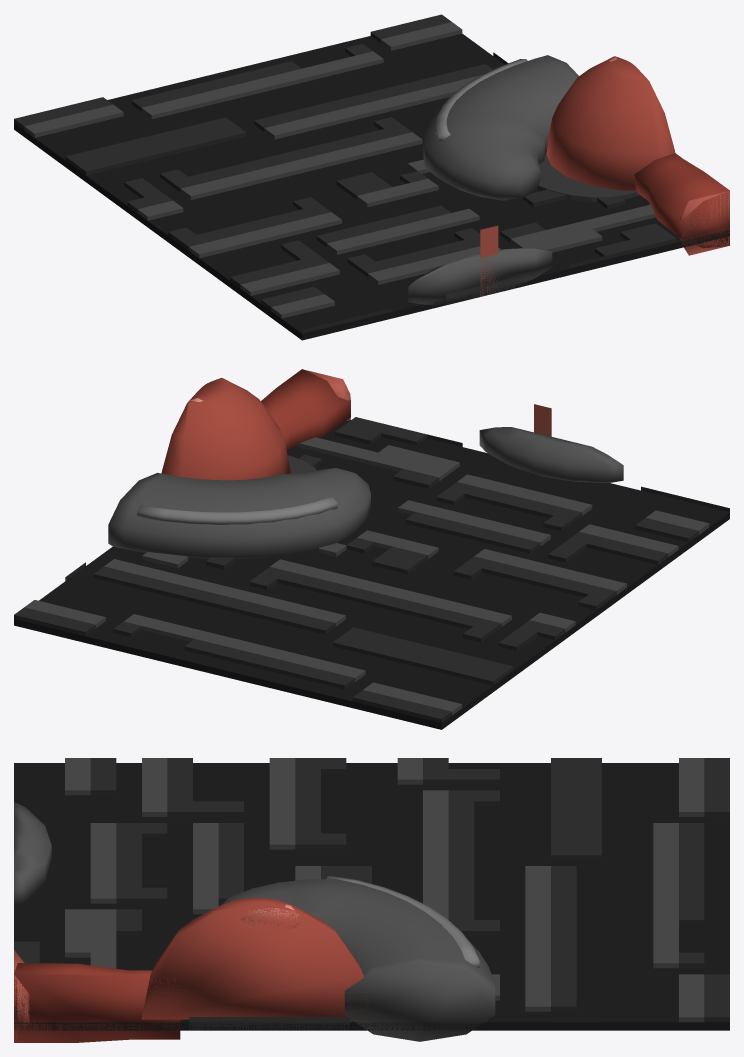
The model's file is newsh-caret-153.glb.
3 renders of one model, top to bottom at view 1: azimuth 30°, elevation 25°; view 2: azimuth 150°, elevation 25°; view 3: azimuth 270°, elevation 25°, orthographic. The views are drawn at different scales.
Visible parts, largest first — view 1: newsh-caret-153; view 2: newsh-caret-153; view 3: newsh-caret-153.
Part boxes in pixels (x1=…): newsh-caret-153: x1=14, y1=14, x2=729, y2=340; newsh-caret-153: x1=14, y1=369, x2=729, y2=729; newsh-caret-153: x1=14, y1=758, x2=729, y2=1042.
Bounding box in the file's own units: 2 × 0.4948 × 2.33.
